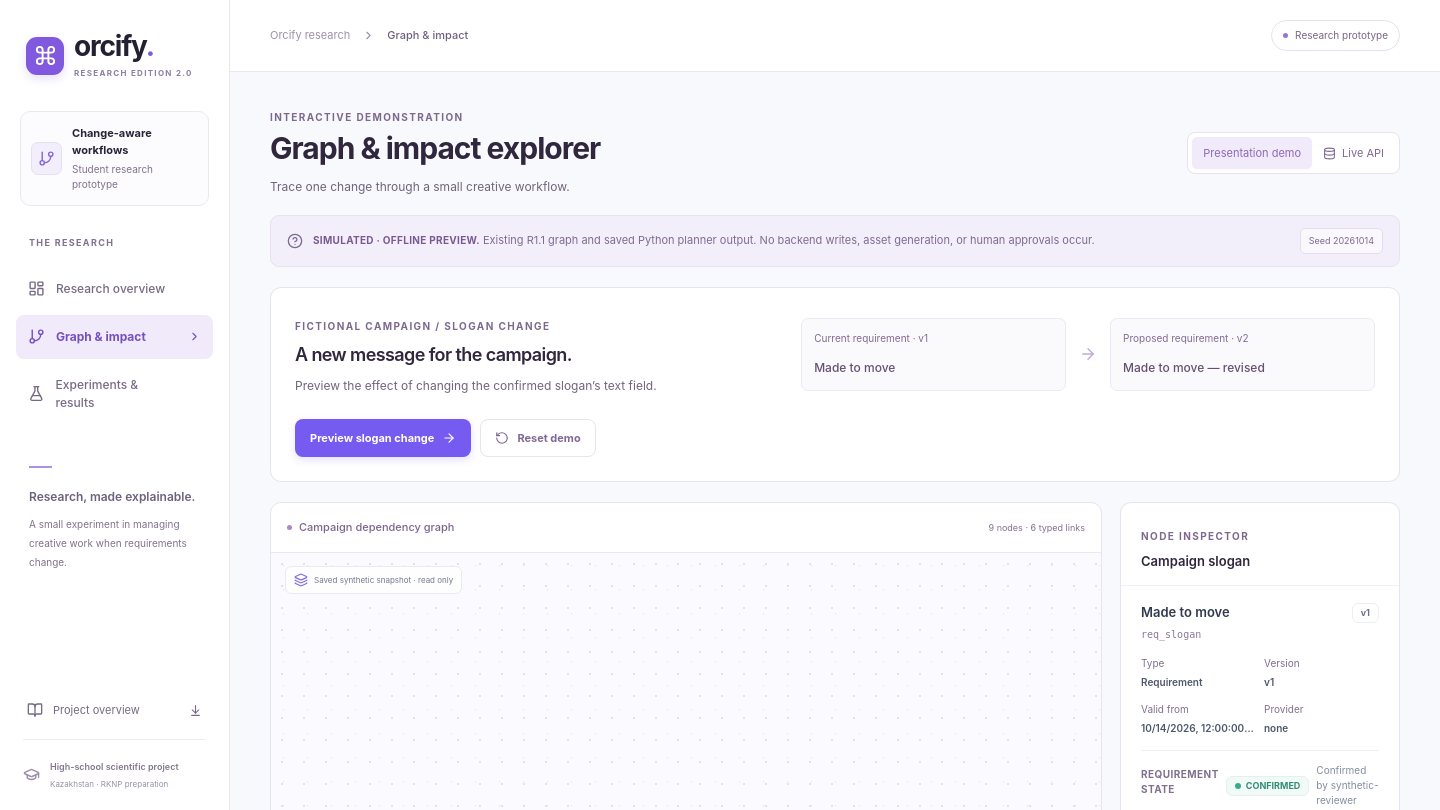
final research showcase › requires explicitly selecting live mode before showing development login
The image size is (1440, 810).
Check: the field labelled "Development access token" is not shown
Click the button "Live API" at (1354, 153), box [1312,137,1395,169]
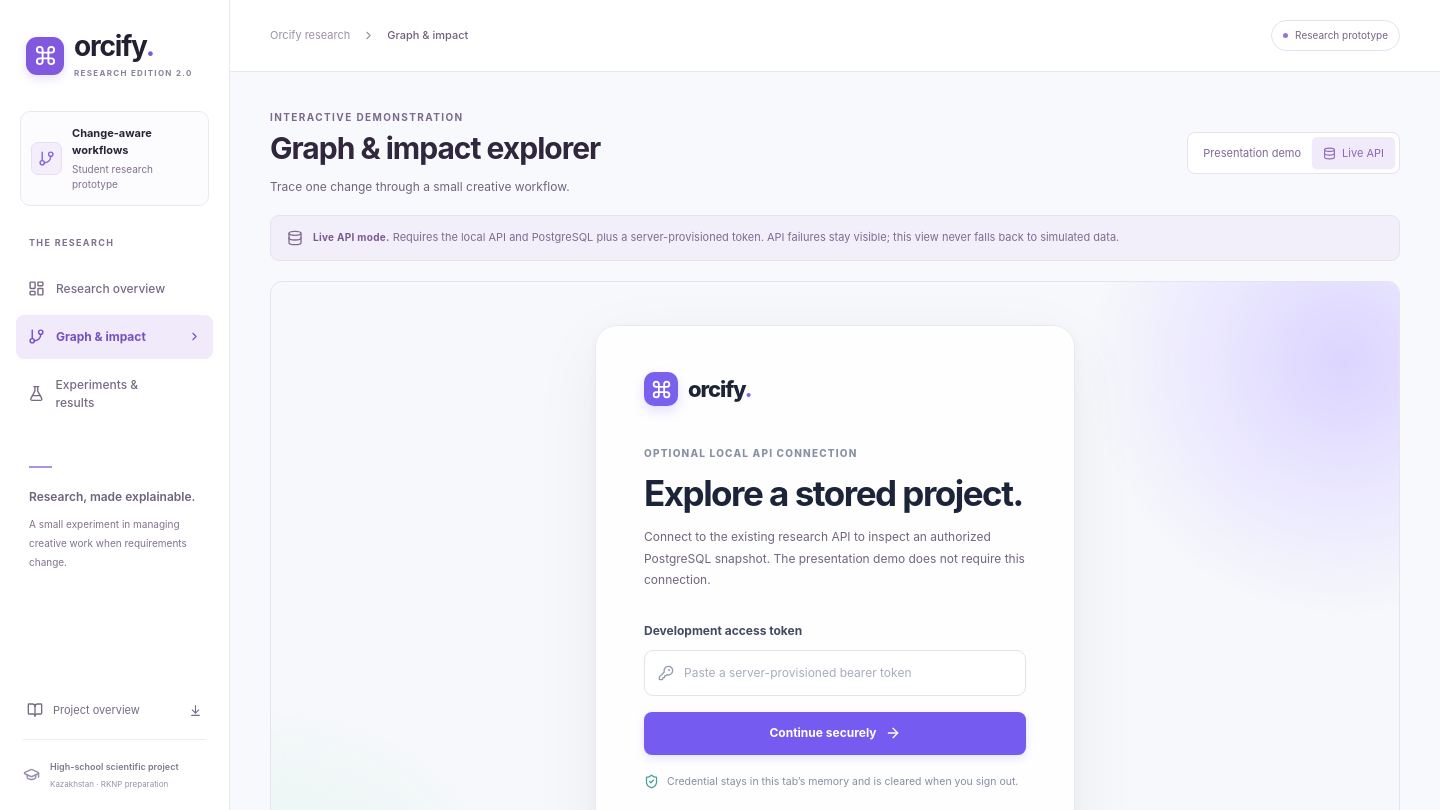
Check: the password field labelled "Development access token" is shown, box [684,664,1012,682]
Click the button "Presentation demo" at (1252, 153), box [1192,137,1312,169]
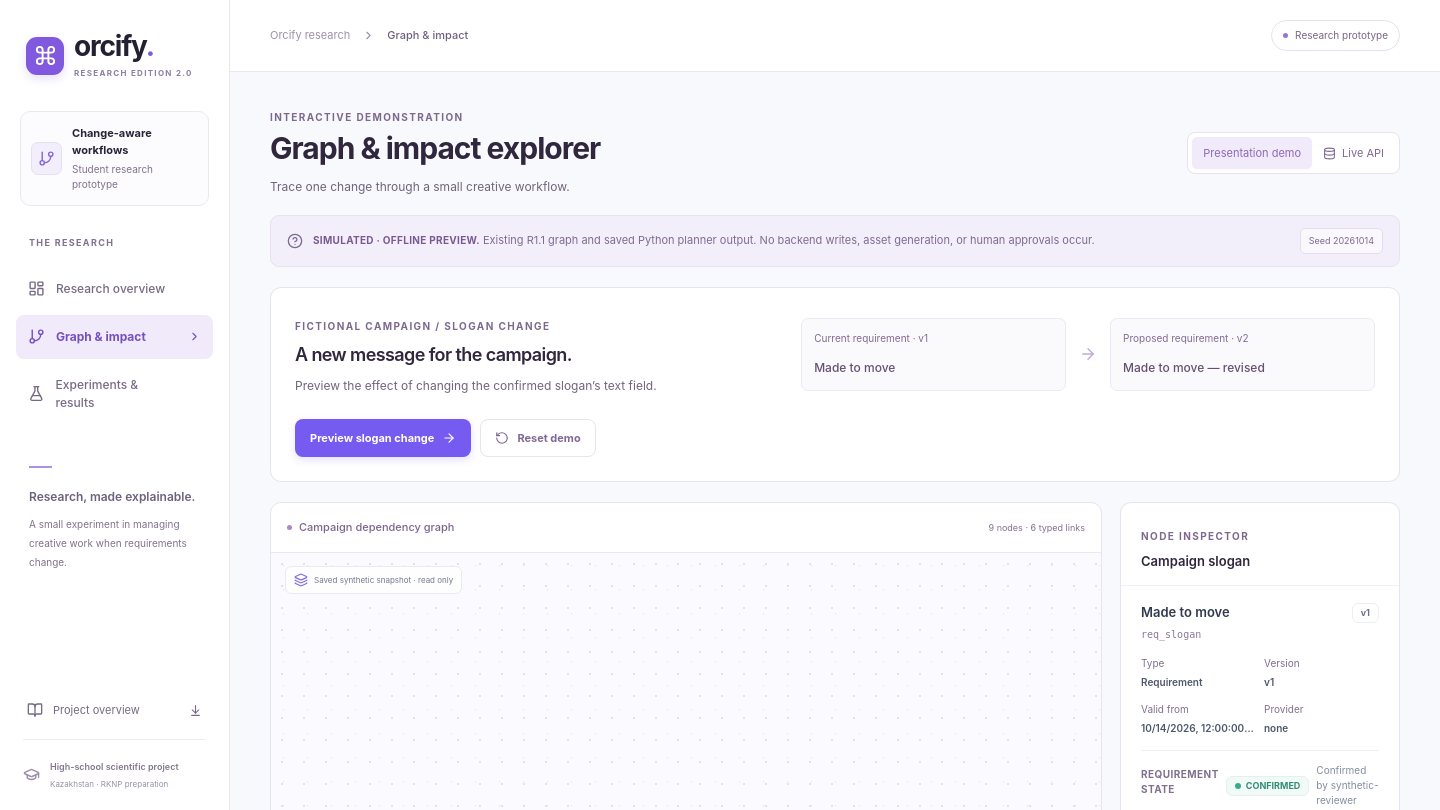
Check: the label labelled "Development access token" is gone
